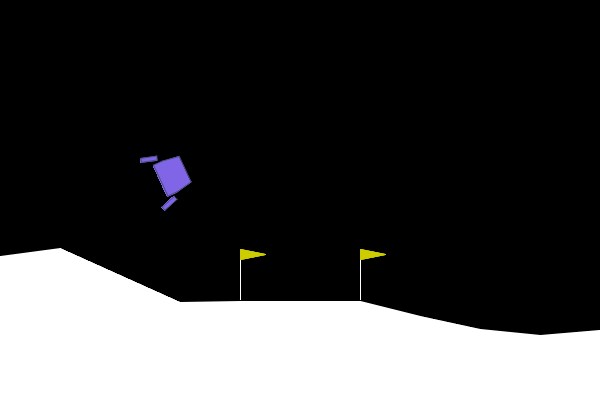lander: (138, 142, 199, 213)
